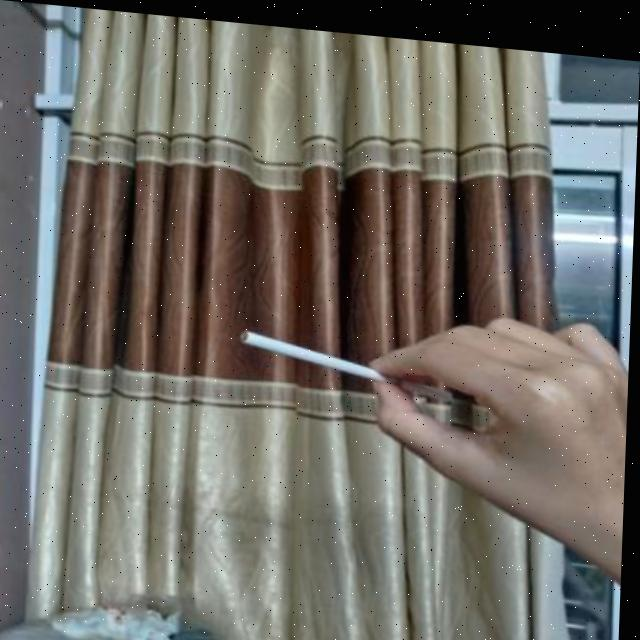cigarette: (237, 321, 460, 396)
